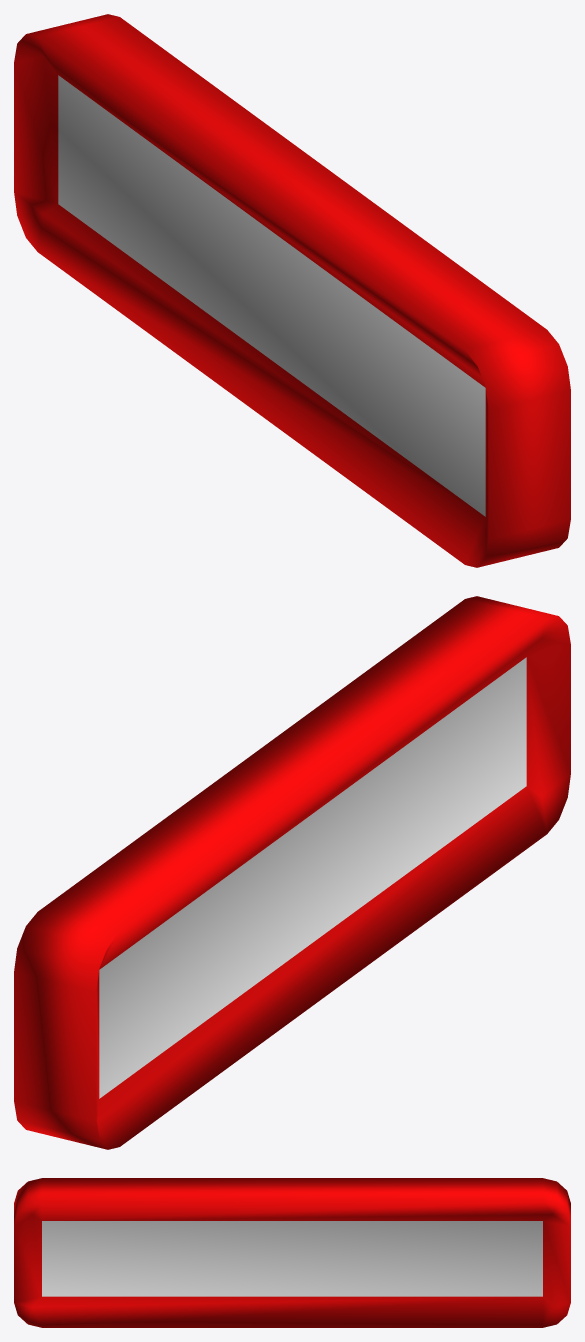
The model's file is MovingBarrier.fbx.
3 renders of one model, top to bottom at view 1: azimuth 30°, elevation 25°; view 2: azimuth 150°, elevation 25°; view 3: azimuth 270°, elevation 25°, orthographic. The views are drawn at different scales.
Parts seen in each view (by area): view 1: Cube; view 2: Cube; view 3: Cube.
Part boxes in pixels (left/top/right/bottom): Cube: left=14, top=14, right=570, bottom=567; Cube: left=14, top=596, right=570, bottom=1149; Cube: left=14, top=1178, right=570, bottom=1327.
Bounding box in the file's own units: 40 × 100 × 400.
Materials: 1 (1 with a texture image).
